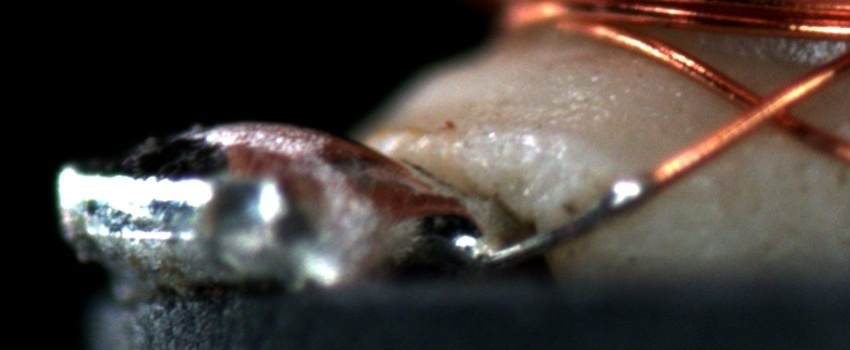CL: (721, 76, 817, 143)
TB: (600, 175, 659, 218)
TS: (479, 176, 657, 264)
TTCW: (450, 137, 714, 269)
